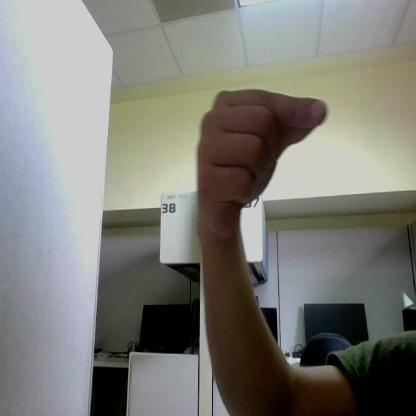G: (198, 89, 326, 235)
